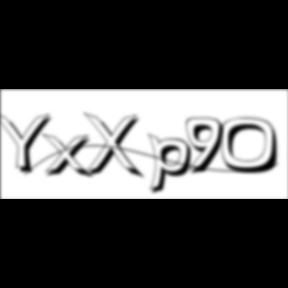9: (186, 117, 230, 177)
O: (220, 117, 286, 176)
X: (83, 112, 147, 182)
Y: (0, 110, 58, 176)
p: (148, 132, 198, 198)
x: (42, 132, 97, 181)
